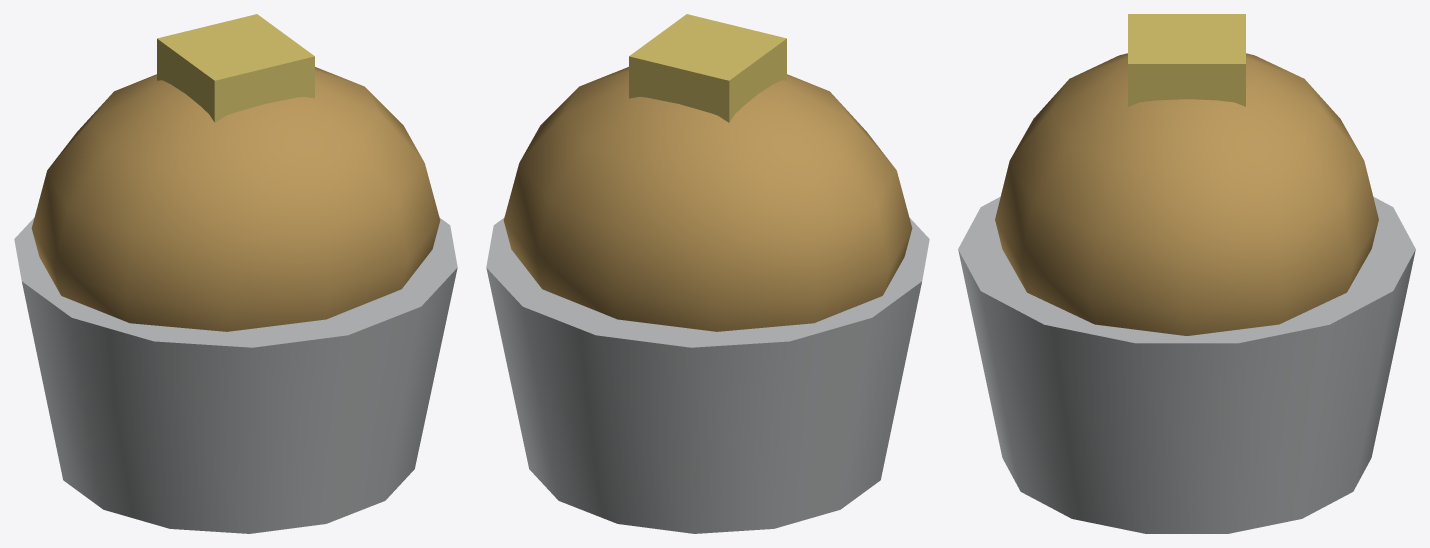
File: item_steamer.glb
3 views of the same model, side by side, from view 1: azimuth 30°, elevation 25°; view 2: azimuth 150°, elevation 25°; view 3: azimuth 270°, elevation 25° (orthographic). The views are drawn at different scales.
Visible parts, largest first — view 1: item_steamer; view 2: item_steamer; view 3: item_steamer.
Boxes of the visible parts, <box> form: item_steamer: <box>14,14,457,533</box>; item_steamer: <box>486,14,929,533</box>; item_steamer: <box>958,14,1415,533</box>.
Size of the model in its own units: 0.1209 by 0.1252 by 0.124.
